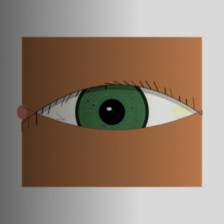pinguecula_lesion: (163, 96, 199, 126)
